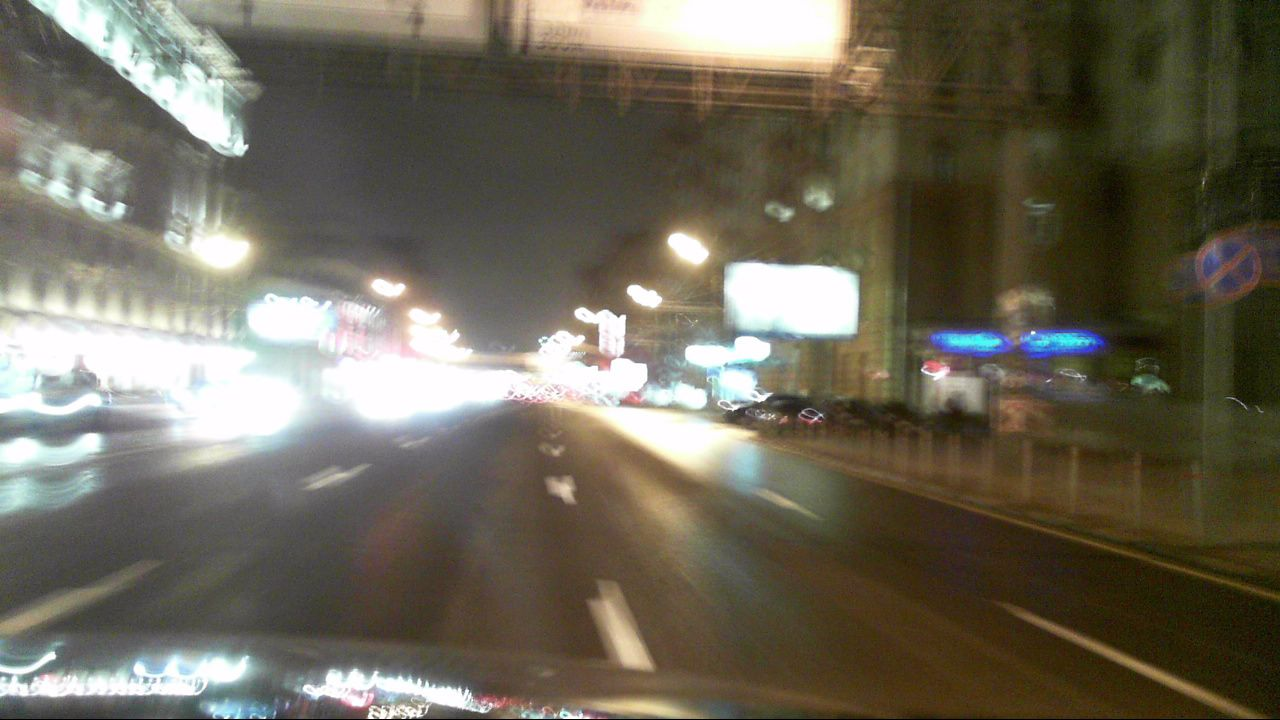No Parking: (1194, 235, 1263, 303)
